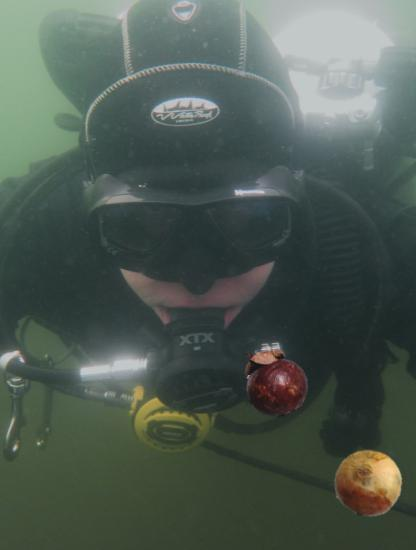Mangostan: (238, 343, 314, 419)
Onion: (333, 448, 403, 518)
